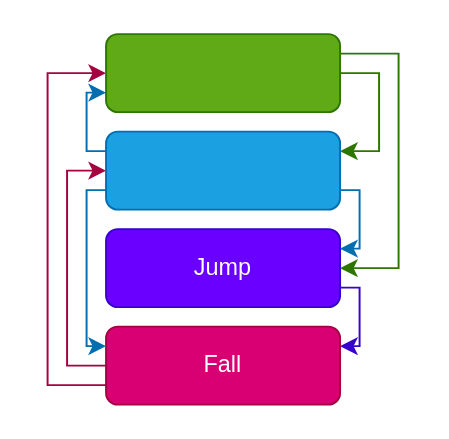
This 449x439 diagram has some shape labels left out. Each missing label, with the box of its shape:
Idle: (104, 32, 340, 112)
Run: (104, 130, 340, 210)
